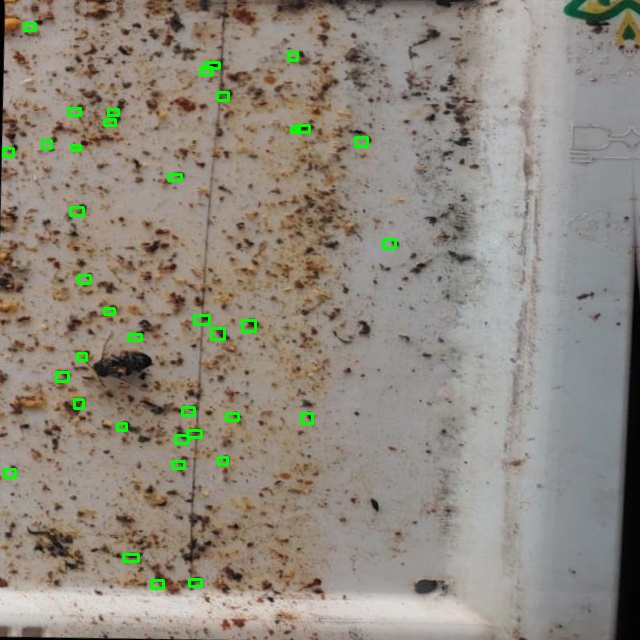varroa: (242, 320, 255, 331), (211, 328, 224, 339), (194, 315, 209, 324), (301, 413, 312, 423), (56, 372, 68, 381), (383, 239, 395, 248), (355, 137, 367, 146), (123, 554, 138, 561), (175, 435, 188, 443), (70, 207, 83, 215), (187, 430, 201, 437), (151, 580, 163, 588), (182, 407, 194, 415), (78, 275, 90, 283), (296, 125, 309, 132), (4, 469, 15, 477), (217, 92, 228, 100), (189, 579, 201, 586), (172, 461, 184, 468), (226, 413, 238, 420), (68, 108, 80, 115), (200, 67, 212, 74), (205, 62, 219, 68), (74, 399, 83, 408), (3, 148, 13, 156), (128, 334, 141, 340), (168, 174, 181, 180), (24, 23, 35, 30), (42, 140, 51, 148), (288, 52, 297, 60), (104, 119, 115, 125), (218, 457, 227, 464), (117, 423, 126, 430), (77, 353, 86, 360), (104, 308, 114, 314), (108, 109, 118, 115), (71, 145, 80, 150), (291, 127, 299, 132)
